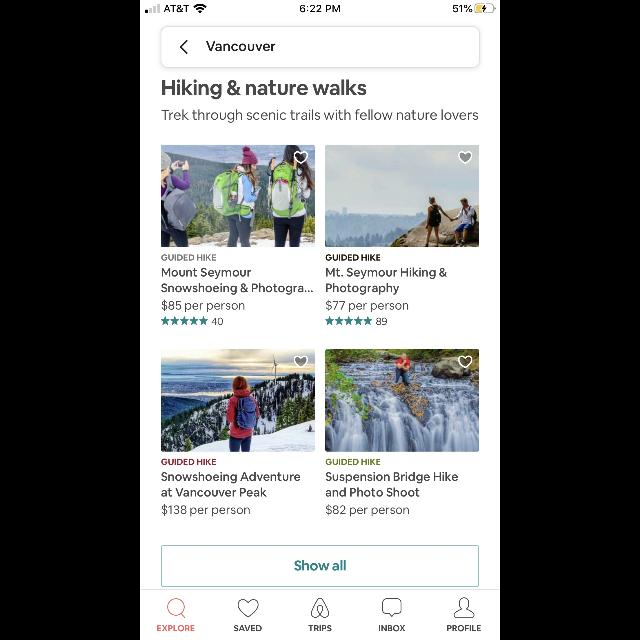icon: (162, 316, 208, 326), (326, 316, 372, 326), (382, 598, 402, 618), (454, 598, 474, 618), (168, 598, 186, 618), (238, 599, 258, 617), (294, 152, 308, 164), (458, 152, 472, 164), (294, 356, 308, 368), (458, 356, 472, 368), (180, 40, 188, 54)
image: (161, 348, 315, 452), (325, 348, 479, 452), (161, 145, 315, 247), (326, 145, 478, 247), (310, 598, 330, 618)
input: (160, 26, 480, 68)
text: (162, 78, 366, 100), (162, 109, 478, 123), (162, 268, 312, 296), (326, 471, 458, 497), (162, 472, 300, 496), (327, 268, 448, 294), (162, 504, 250, 516), (162, 300, 245, 312), (326, 504, 409, 516), (326, 300, 408, 312), (207, 41, 276, 51), (326, 254, 380, 262), (162, 458, 216, 466), (326, 458, 380, 466), (162, 255, 216, 261), (158, 624, 195, 632), (447, 624, 481, 632), (234, 624, 262, 632), (379, 624, 405, 632), (308, 624, 332, 632), (377, 317, 388, 325), (212, 317, 222, 325)
textbutton: (161, 545, 479, 587)
uppertaskbar: (140, 0, 500, 14)
